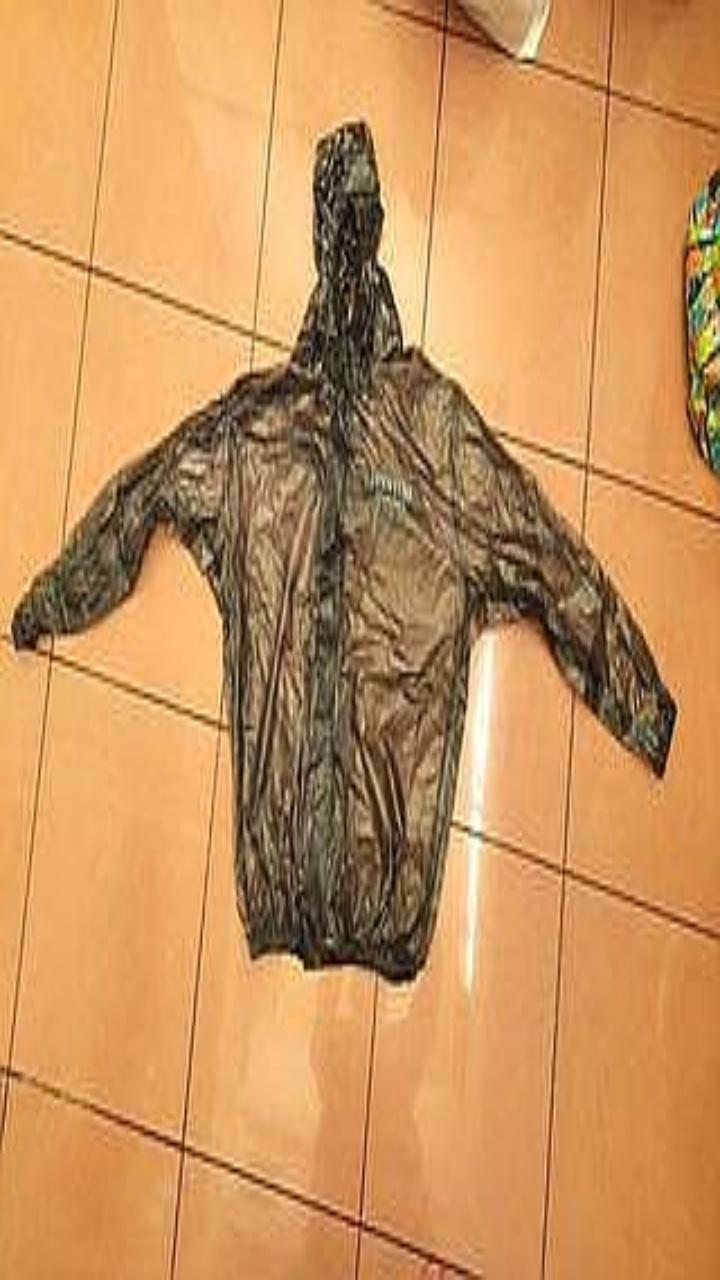Sports_Jacket: (12, 123, 674, 978)
